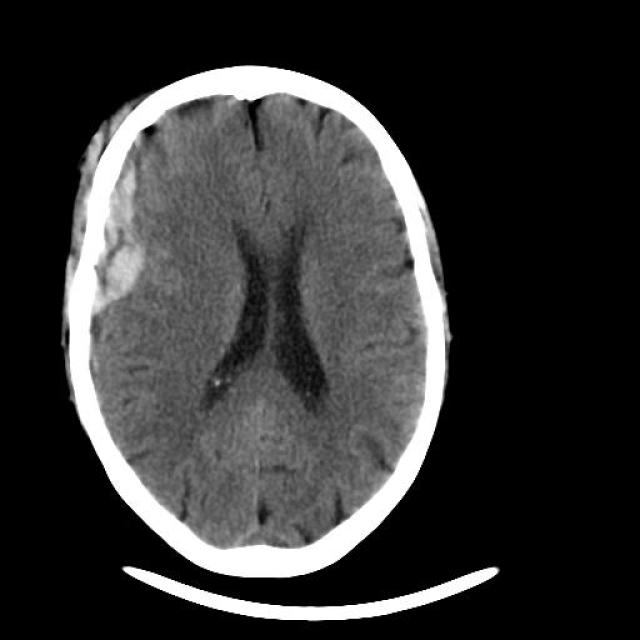Subdural: (64, 110, 186, 318)
